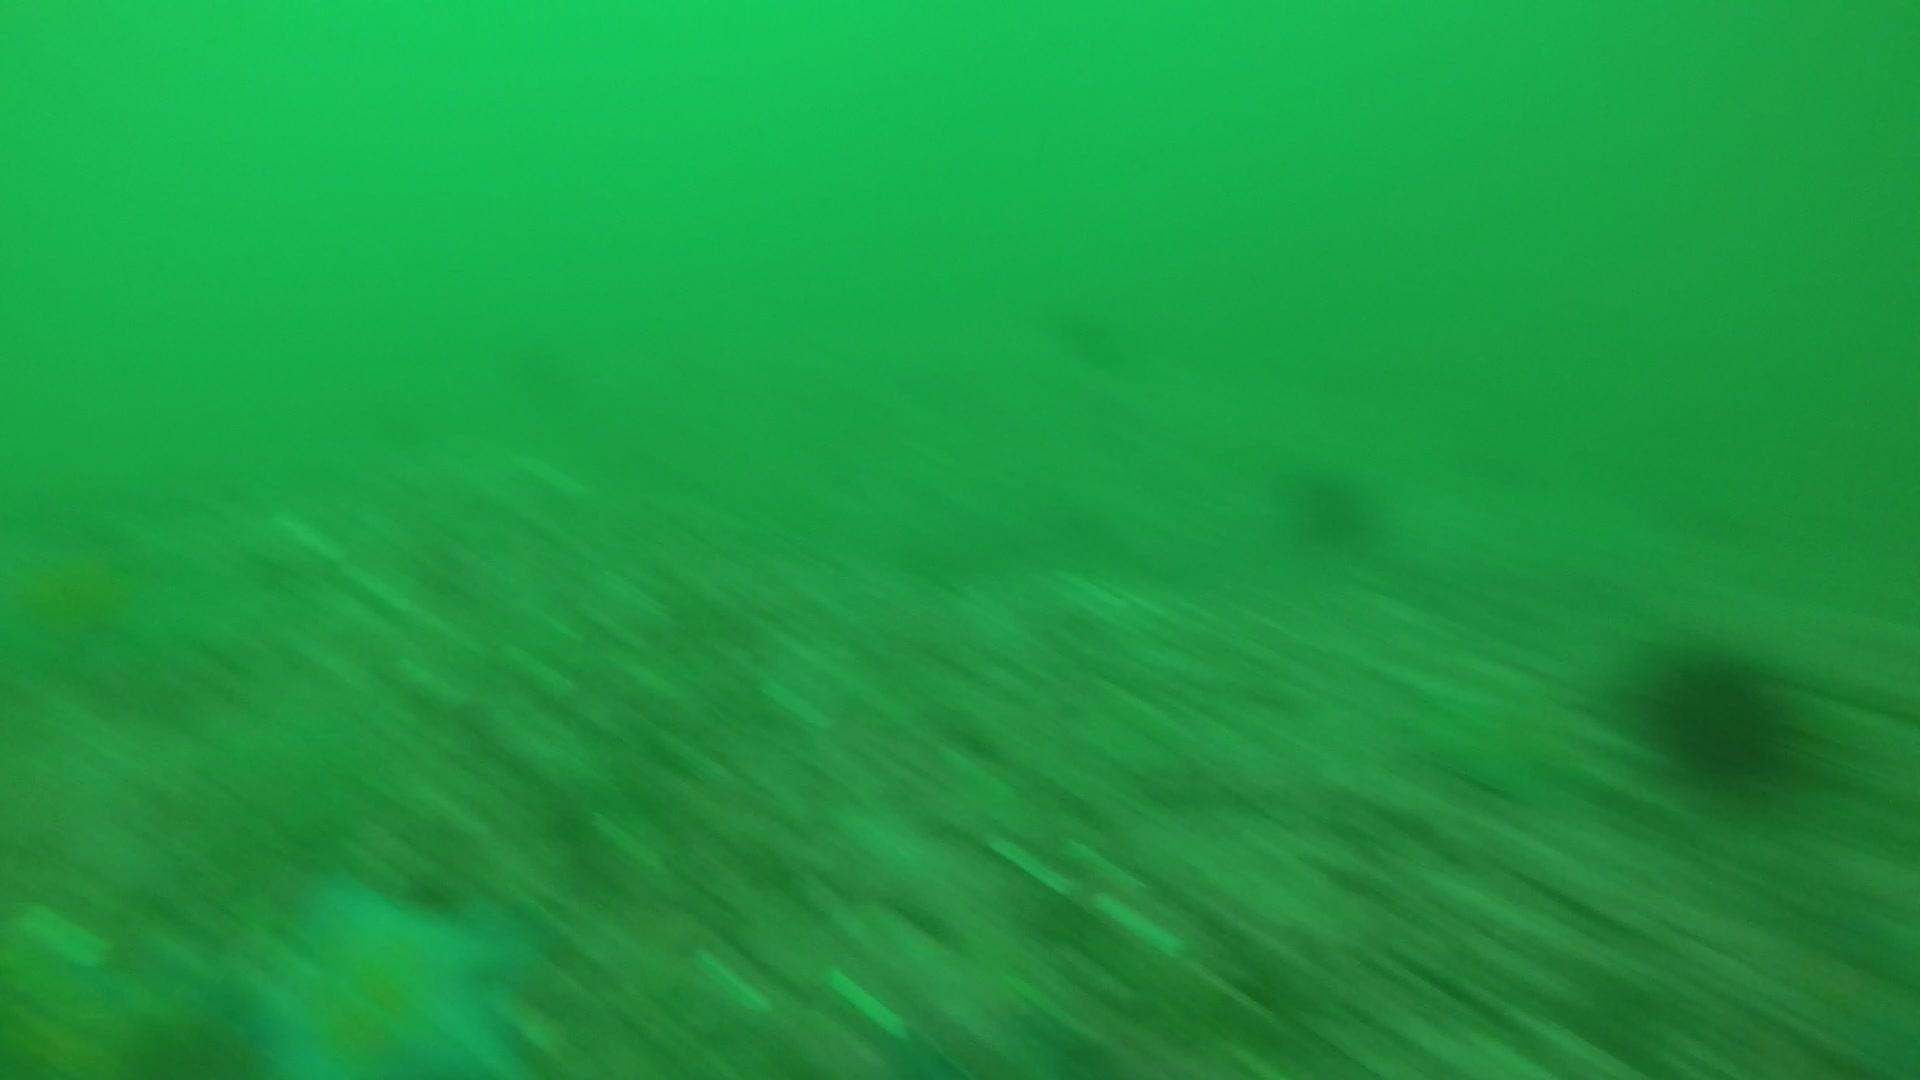echinus: (1633, 636, 1808, 795), (1279, 456, 1383, 551)
starfish: (237, 858, 549, 1077), (1411, 671, 1621, 812)
